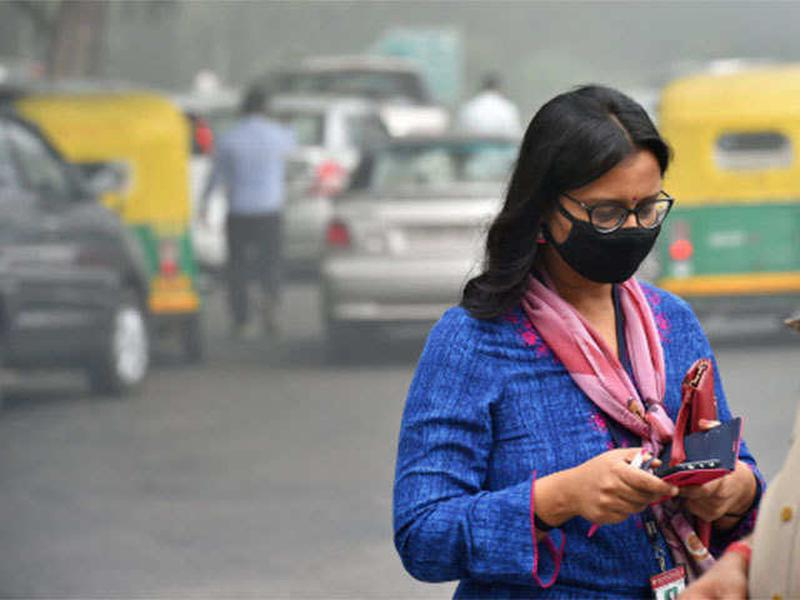mask: (551, 209, 663, 285)
